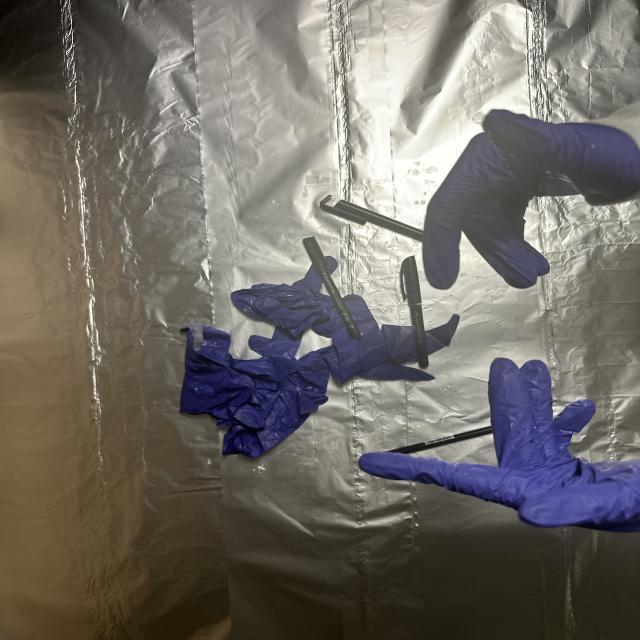gloves_contaminated: (360, 359, 640, 532), (422, 110, 640, 289)
